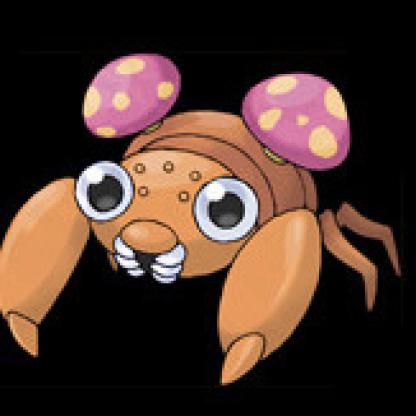Paras: (3, 34, 416, 386)
